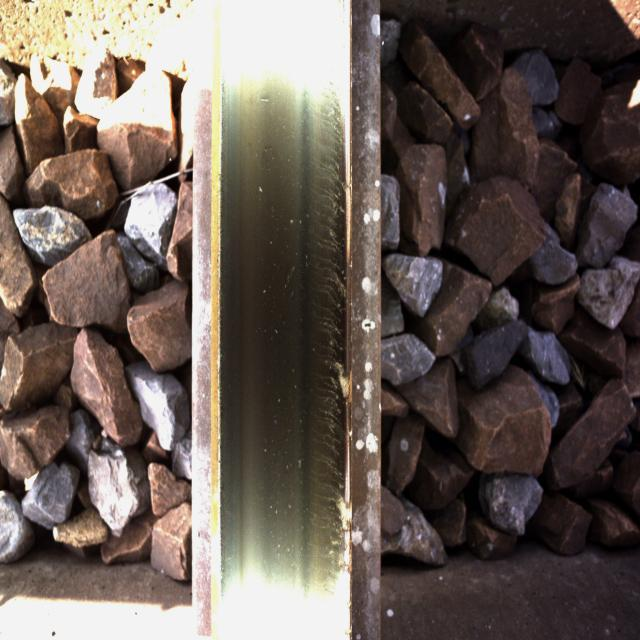normal: (274, 46, 354, 589)
